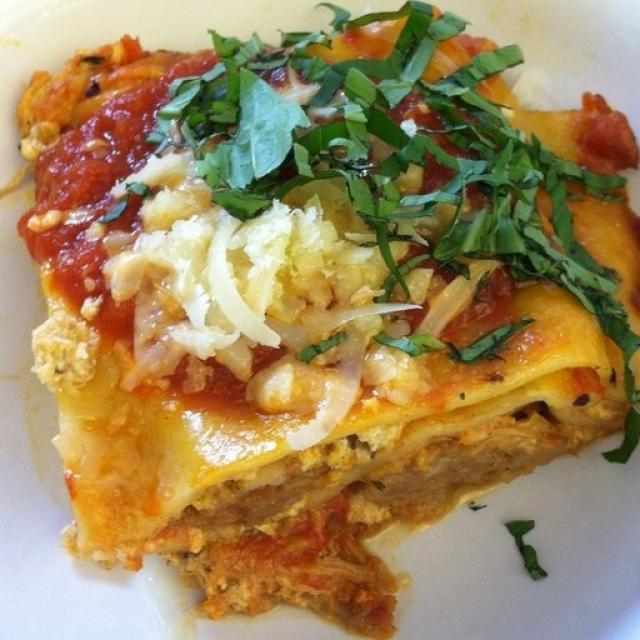Lasagna: (1, 17, 620, 588)
